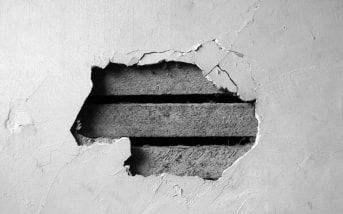Exposed reinforcement: (105, 91, 252, 106), (128, 134, 253, 148)
Spalling: (68, 58, 260, 182)
